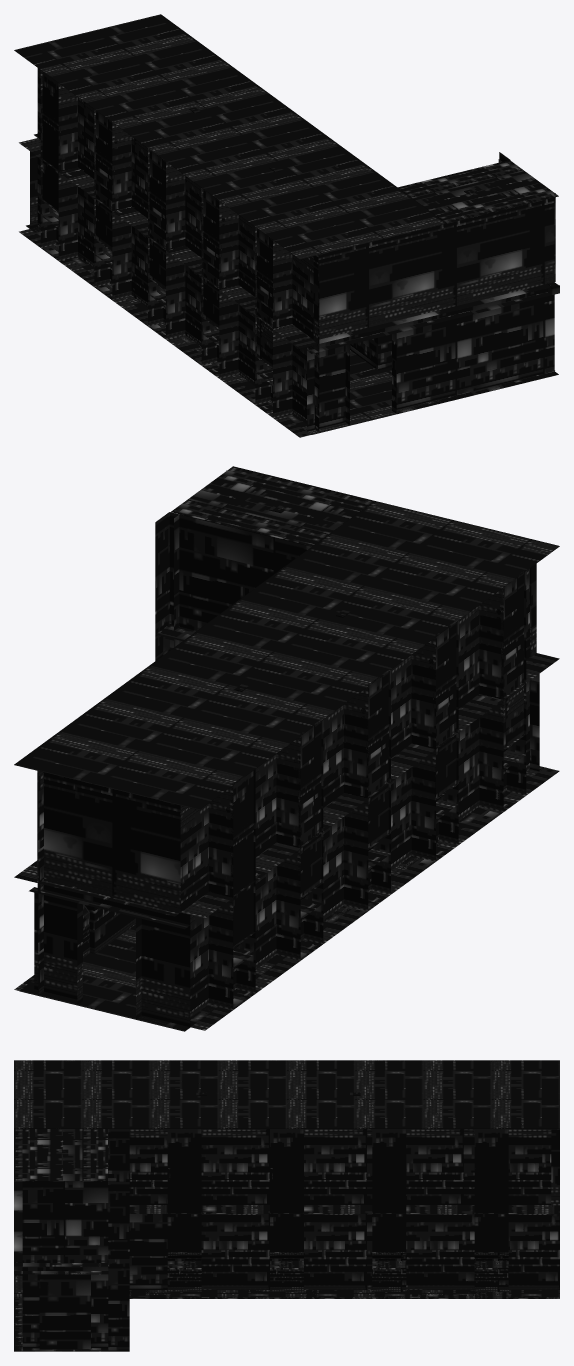
File: room2_4_opt.obj
3 views of the same model, one above another, from view 1: azimuth 30°, elevation 25°; view 2: azimuth 150°, elevation 25°; view 3: azimuth 270°, elevation 25° (orthographic). The views are drawn at different scales.
Size of the model in its own units: 1076 by 708 by 2048.
